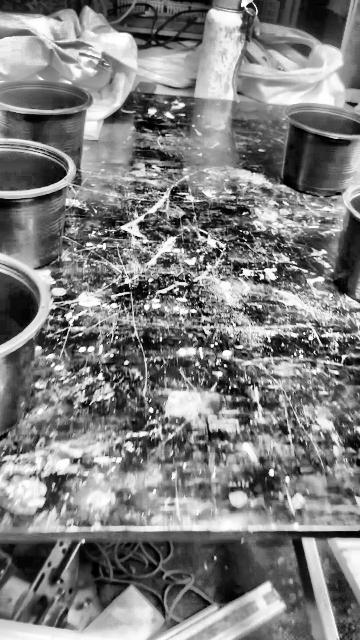pot: (0, 139, 75, 268), (1, 80, 93, 183), (0, 254, 50, 437), (282, 103, 359, 196), (334, 186, 359, 302)
